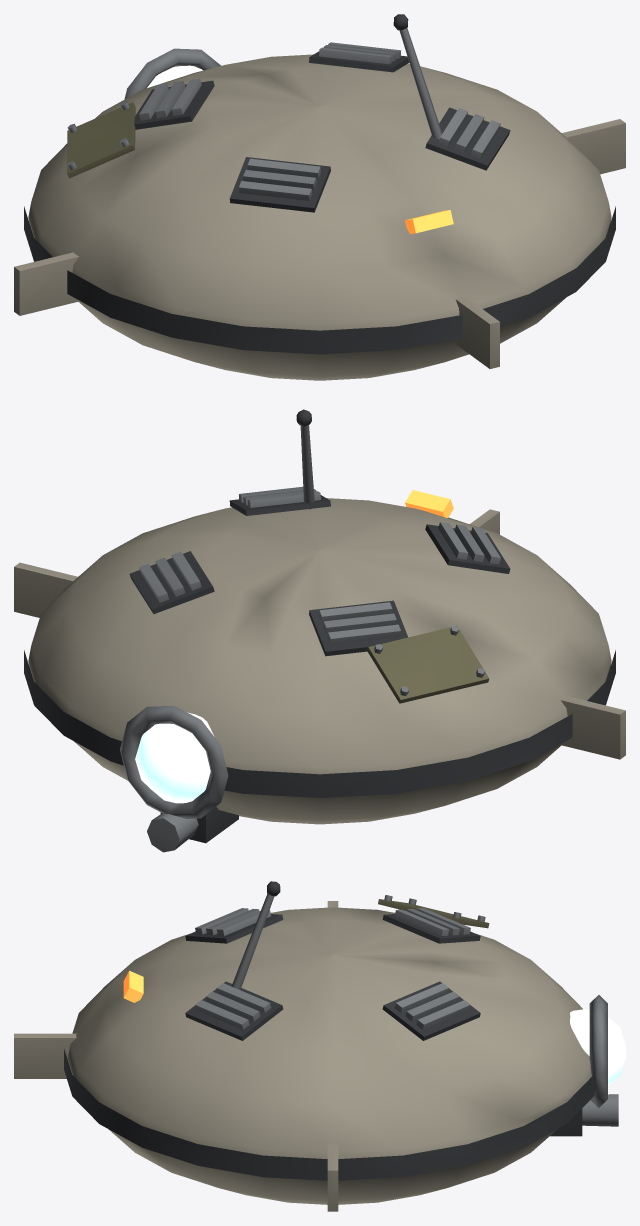
File: drone_training.glb
3 views of the same model, one above another, from view 1: azimuth 30°, elevation 25°; view 2: azimuth 150°, elevation 25°; view 3: azimuth 270°, elevation 25° (orthographic). The views are drawn at different scales.
Visible parts, largest first — view 1: shell_upper, seam_band, shell_lower, vent_04, repair_patch, vent_01, fin_02, vent_03, fin_03, fin_01, vent_02, emitter (+3 smaller); view 2: shell_upper, seam_band, shell_lower, emitter, repair_patch, sensor_eye, vent_03, vent_02, fin_02, vent_04, fin_03, vent_01 (+2 smaller); view 3: shell_upper, seam_band, shell_lower, vent_02, vent_01, emitter, fin_01, vent_03, vent_04, sensor_eye, antenna, repair_patch (+2 smaller).
Part boxes in pixels (x1,y1,x2,y2): shell_upper: [28, 54, 611, 330]; seam_band: [24, 206, 615, 354]; shell_lower: [28, 219, 611, 380]; vent_04: [229, 157, 330, 212]; repair_patch: [67, 101, 135, 178]; vent_01: [425, 107, 510, 170]; fin_02: [14, 252, 79, 315]; vent_03: [134, 78, 214, 129]; fin_03: [562, 119, 625, 174]; fin_01: [455, 296, 499, 368]; vent_02: [309, 42, 409, 72]; emitter: [124, 48, 220, 98]; shell_upper: [28, 498, 611, 774]; seam_band: [24, 650, 615, 797]; shell_lower: [28, 663, 611, 824]; emitter: [120, 705, 238, 852]; repair_patch: [367, 625, 489, 703]; sensor_eye: [135, 712, 214, 803]; vent_03: [309, 600, 408, 656]; vent_02: [129, 551, 214, 614]; fin_02: [560, 696, 625, 759]; vent_04: [425, 522, 510, 573]; fin_03: [14, 562, 77, 617]; vent_01: [229, 486, 330, 515]; shell_upper: [68, 907, 591, 1158]; seam_band: [64, 1049, 596, 1180]; shell_lower: [68, 1059, 556, 1204]; vent_02: [382, 981, 480, 1040]; vent_01: [185, 981, 283, 1040]; emitter: [550, 995, 618, 1136]; fin_01: [14, 1033, 76, 1078]; vent_03: [382, 908, 480, 943]; vent_04: [185, 908, 283, 943]; sensor_eye: [570, 1009, 625, 1085]; antenna: [231, 881, 280, 990]; repair_patch: [378, 895, 489, 928].
Bounding box in the file's own units: 0.48 × 0.2464 × 0.4604.
